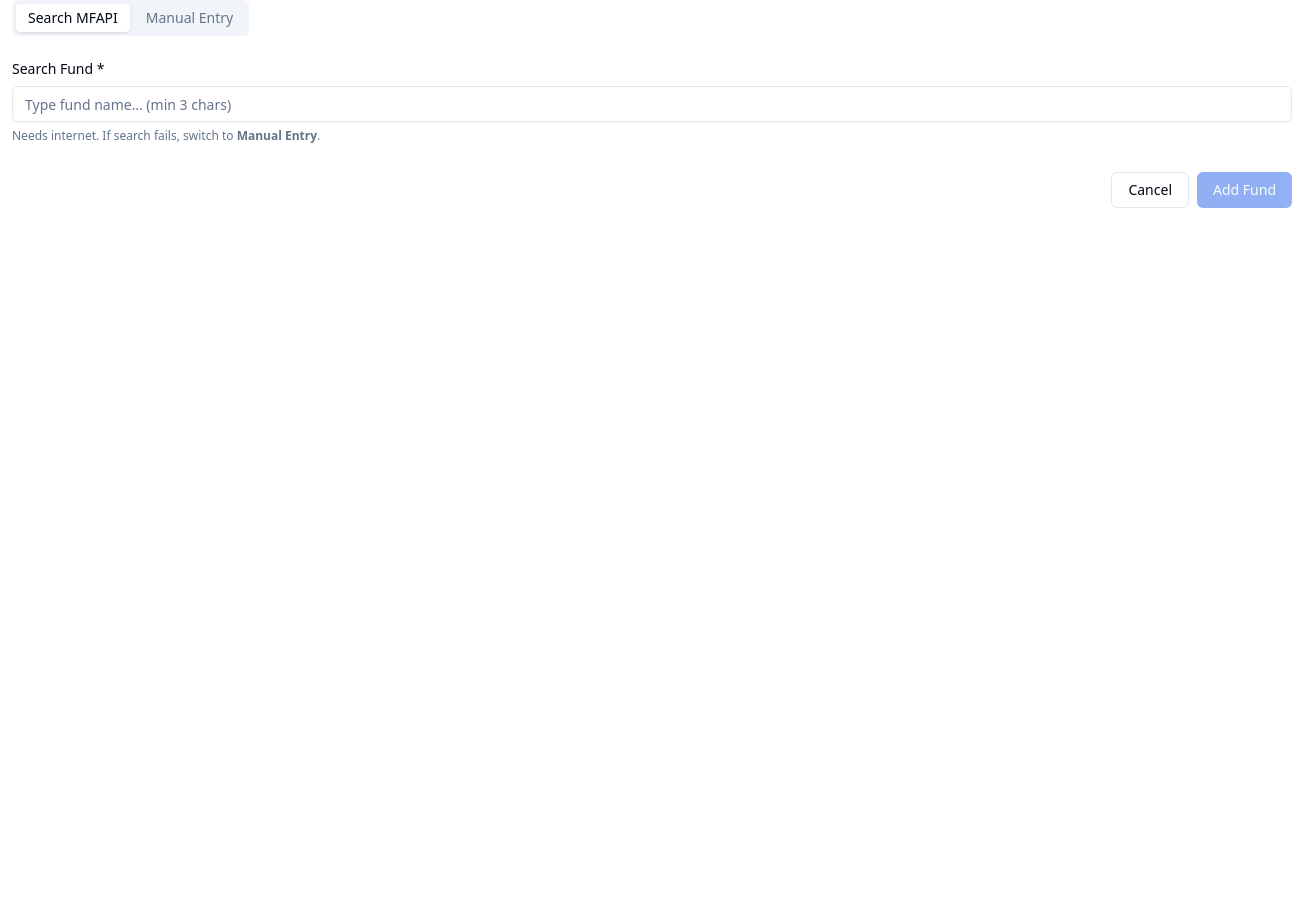
Test: MutualFundForm › submitting with empty form shows required errors
The image size is (1304, 900).
Click the button "Manual Entry". click: (190, 18)
box: x1=134 y1=4 x2=245 y2=32
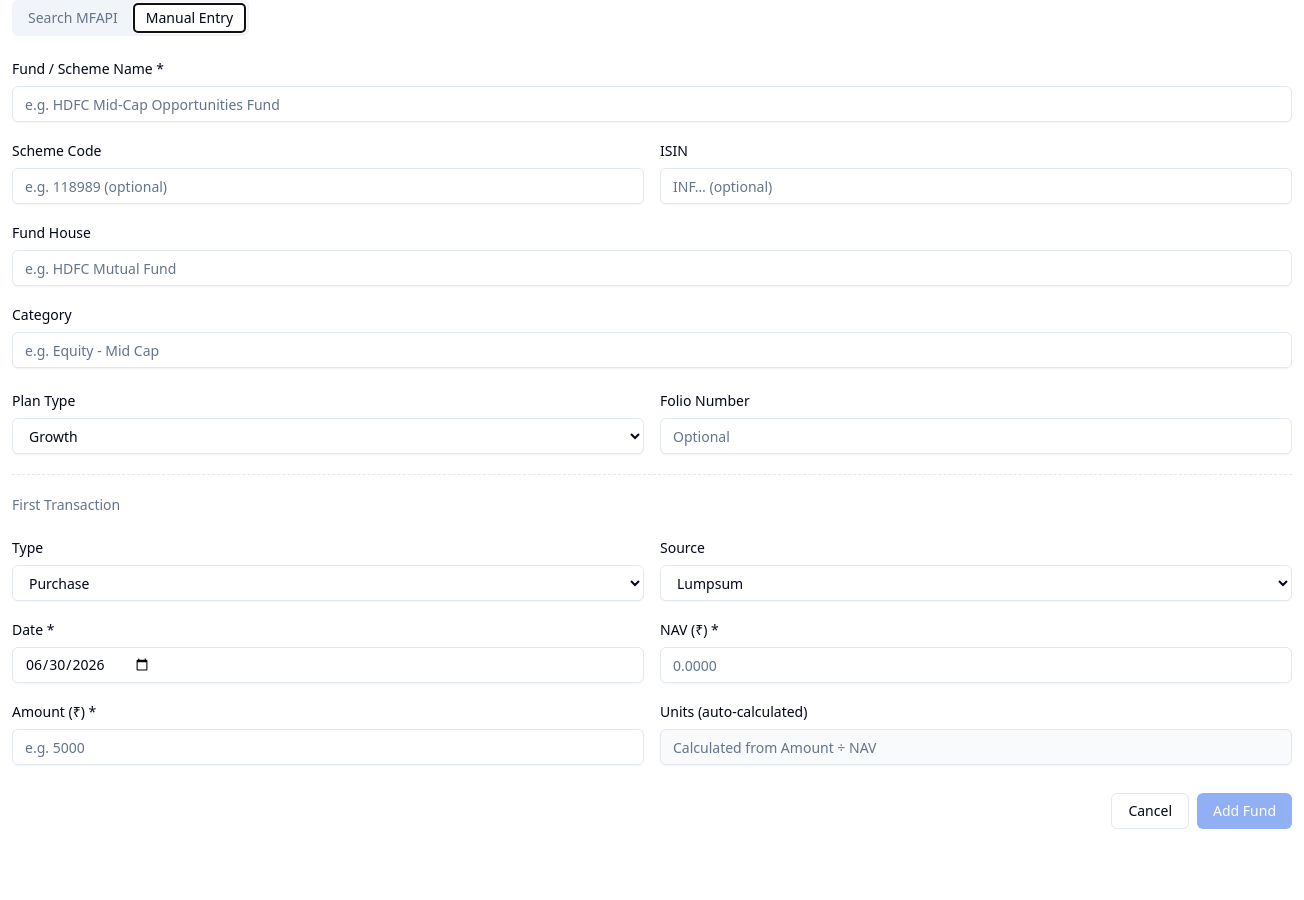
Submit the form
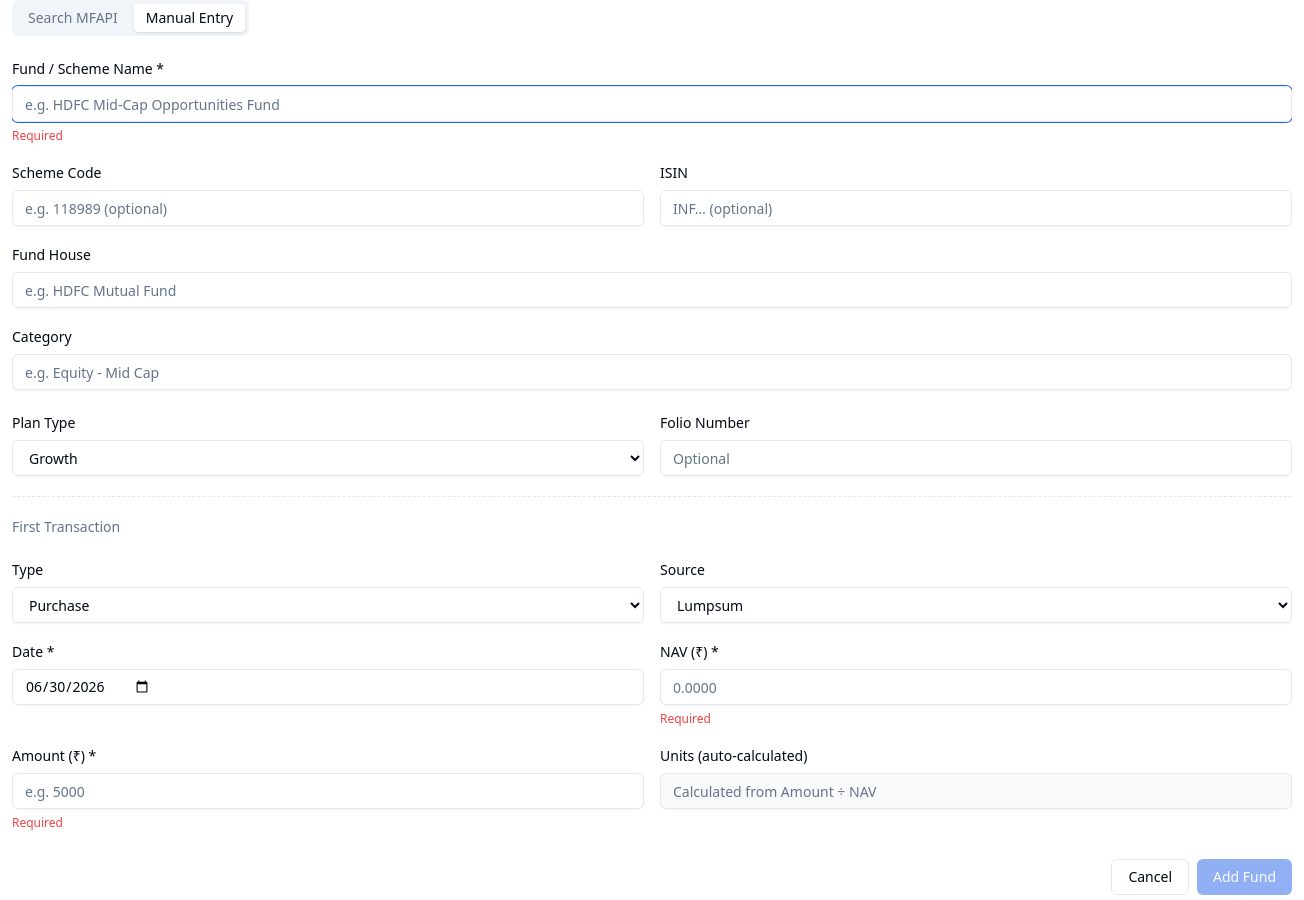
expect the text "Required" below "Fund / Scheme Name *" is shown: met, box x1=12 y1=127 x2=63 y2=144
